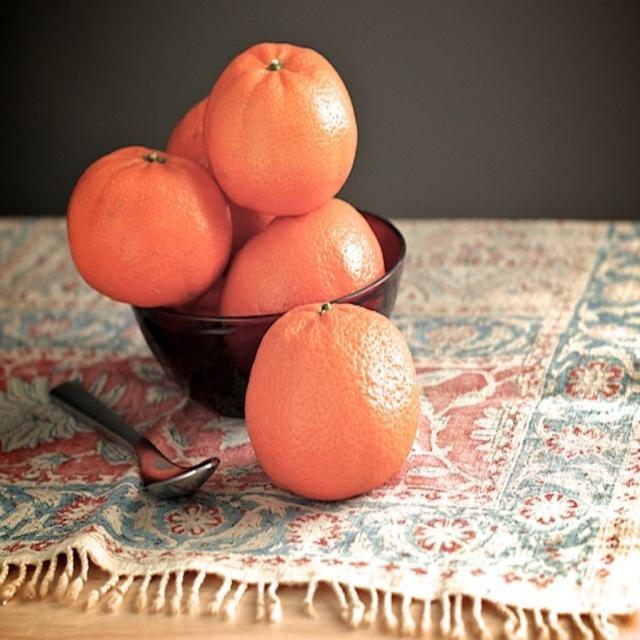Orange: (245, 300, 420, 500), (64, 142, 234, 308), (204, 44, 361, 218), (226, 193, 386, 317), (165, 100, 217, 177)
